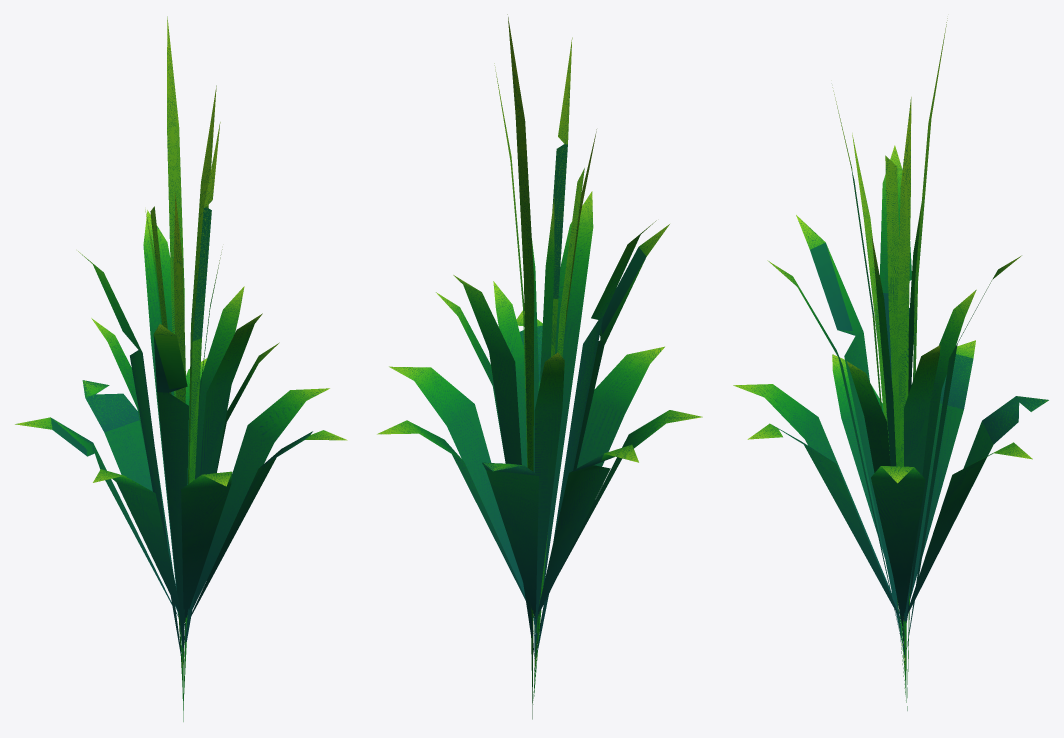
Rendered from Bush_6A.fbx.
3 views of the same model, side by side, from view 1: azimuth 30°, elevation 25°; view 2: azimuth 150°, elevation 25°; view 3: azimuth 270°, elevation 25° (orthographic). The views are drawn at different scales.
Parts seen in each view (by area): view 1: Bush_6A; view 2: Bush_6A; view 3: Bush_6A.
Part boxes in pixels (x1,y1,x2,y2): Bush_6A: (15, 16, 347, 721); Bush_6A: (377, 14, 702, 719); Bush_6A: (733, 18, 1048, 710).
Bounding box in the file's own units: 0.9995 × 2.38 × 0.9618.
